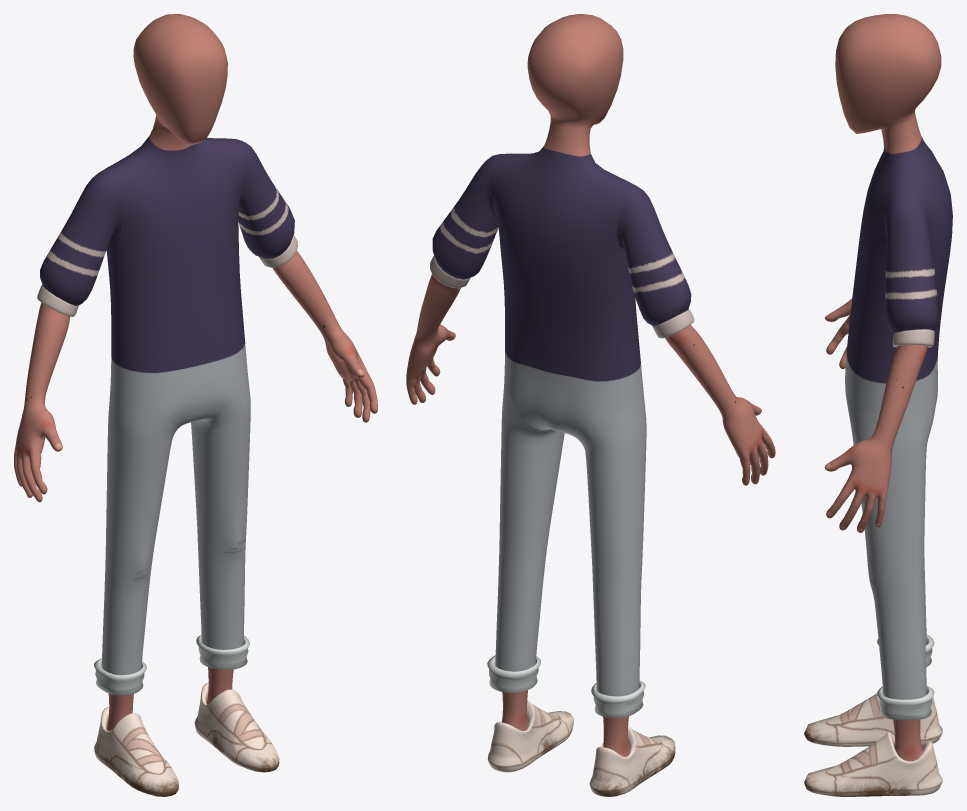
The model's file is PR_Basemodel_seperated_Textured.fbx.
The picture shows the model from 3 angles, left to right: view 1: azimuth 30°, elevation 25°; view 2: azimuth 150°, elevation 25°; view 3: azimuth 270°, elevation 25°; orthographic projection.
Visible parts, largest first — view 1: Torso, L_Leg, R_Leg, L_Arm, R_Arm; view 2: Torso, L_Leg, R_Leg, L_Arm, R_Arm; view 3: Torso, R_Leg, R_Arm, L_Leg, L_Arm.
Boxes of the visible parts, <box> form: Torso: <box>99,14,247,428</box>; L_Leg: <box>94,387,178,796</box>; R_Leg: <box>191,375,279,772</box>; L_Arm: <box>14,171,122,502</box>; R_Arm: <box>236,139,377,422</box>; Torso: <box>490,14,643,438</box>; L_Leg: <box>578,394,675,796</box>; R_Leg: <box>487,384,573,772</box>; L_Arm: <box>617,186,775,485</box>; R_Arm: <box>406,154,498,404</box>; Torso: <box>835,14,952,416</box>; R_Leg: <box>804,408,942,796</box>; R_Arm: <box>824,196,938,532</box>; L_Leg: <box>804,554,942,746</box>; L_Arm: <box>825,298,852,368</box>.
Size of the model in its own units: 0.0415 by 0.0843 by 0.0152.
Materials: 1 (1 with a texture image).
